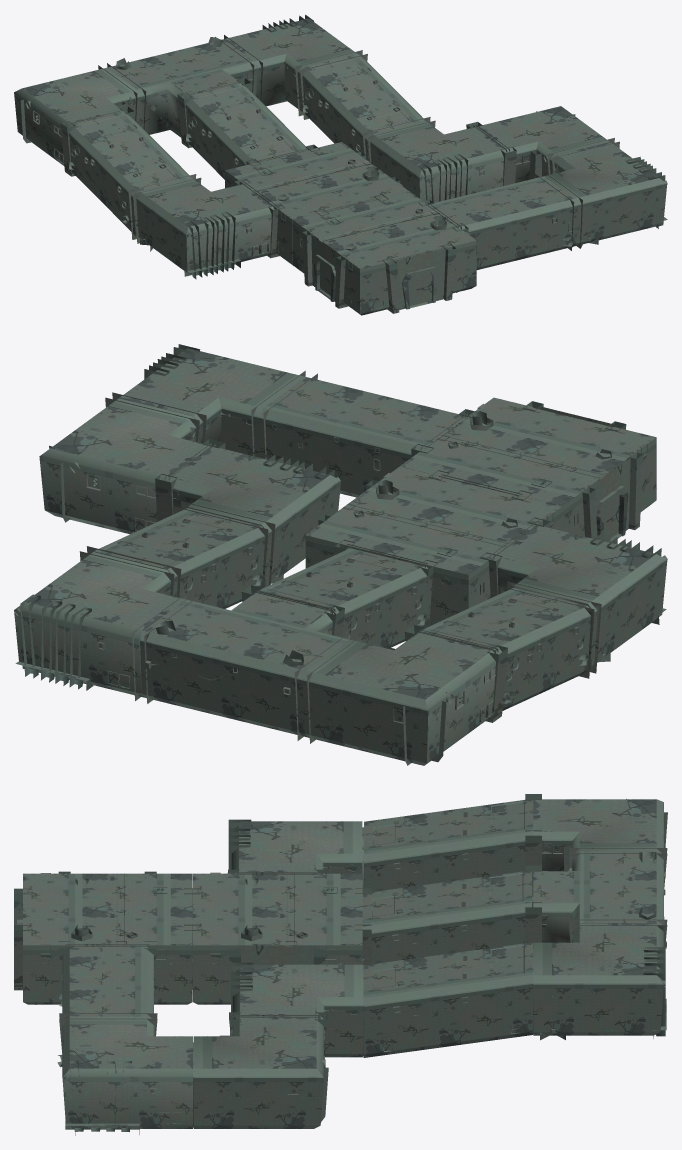
File: Combined_Mesh_root_scene__6_2d4a9e78__zombies2_diffuse_08_b0bdab26_c1f257.obj
3 views of the same model, one above another, from view 1: azimuth 30°, elevation 25°; view 2: azimuth 150°, elevation 25°; view 3: azimuth 270°, elevation 25° (orthographic). The views are drawn at different scales.
Bounding box in the file's own units: 71.92 × 12.27 × 77.15.
202 materials, 202 textured.
